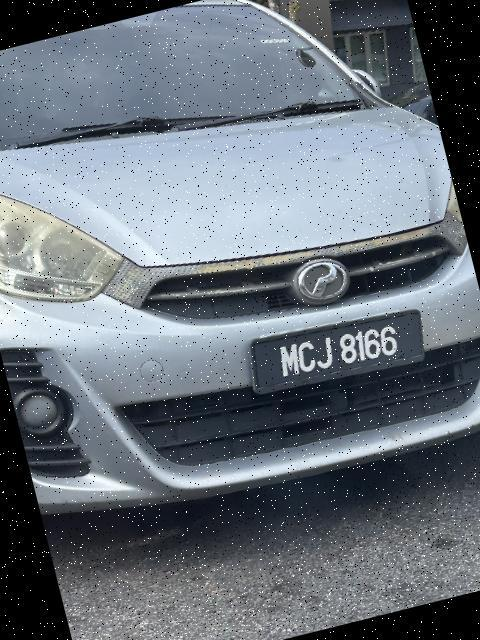License_Plate: (248, 298, 433, 412)
MCJ8166: (248, 298, 433, 412)
car: (1, 1, 480, 549)
